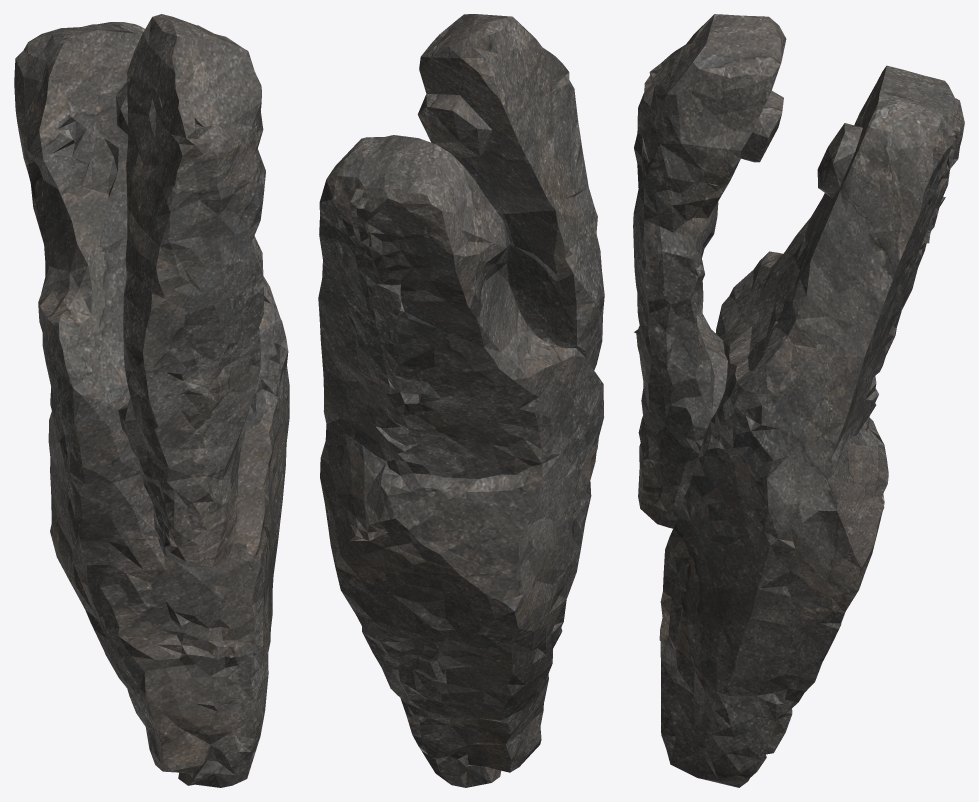
The model's file is rocky_pata_izquierda_inferior.obj.
3 renders of one model, left to right at view 1: azimuth 30°, elevation 25°; view 2: azimuth 150°, elevation 25°; view 3: azimuth 270°, elevation 25°, orthographic. The views are drawn at different scales.
Bounding box in the file's own units: 0.1276 × 0.3935 × 0.1571.
1 material, 1 textured.
